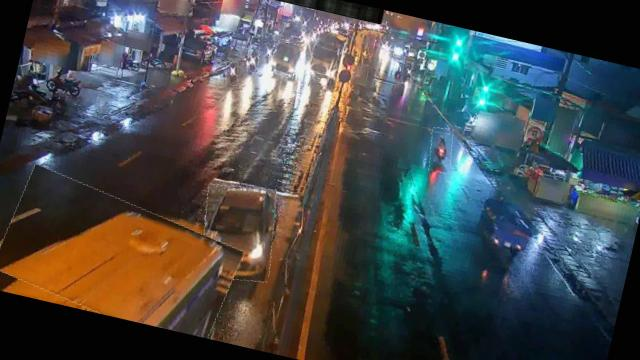Bike: (424, 126, 458, 175), (245, 46, 262, 74), (222, 61, 240, 86)
Bus: (0, 168, 247, 340), (269, 39, 304, 80)
Car: (191, 178, 285, 288)
Truck: (307, 25, 347, 78)
